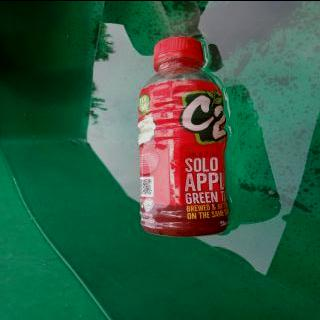bottle: (137, 35, 230, 237)
